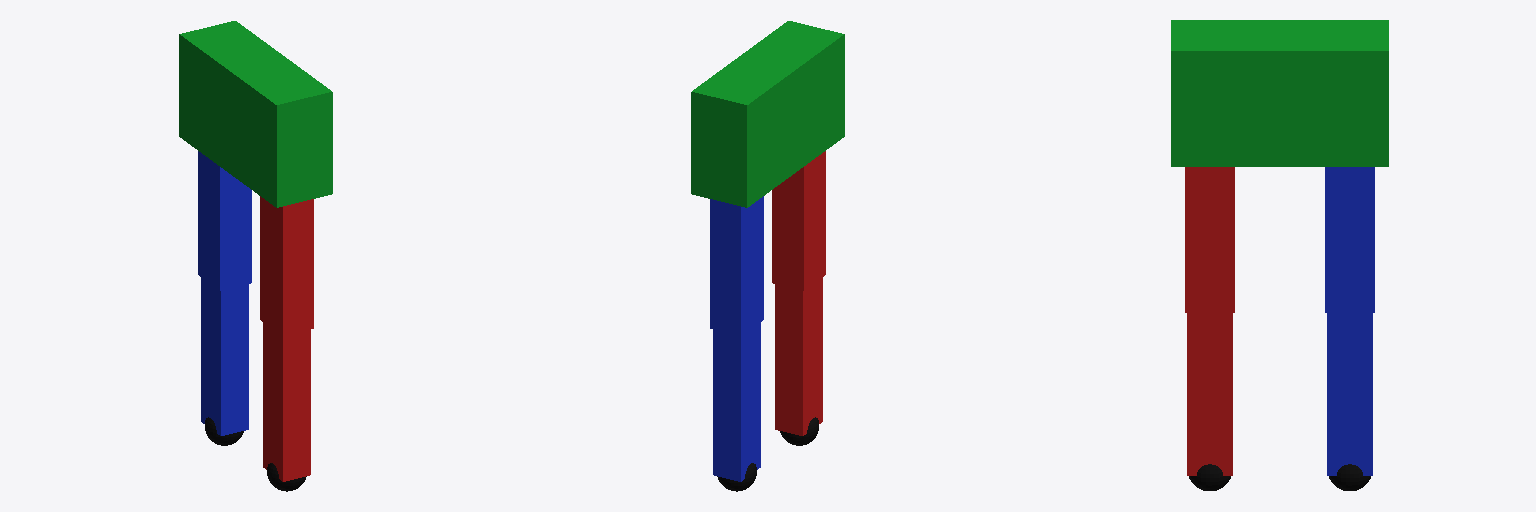
robot.urdf — rabbit_PF:
<?xml version="1.0" encoding="utf-8"?>
<robot name="rabbit_PF">

  <!-- ============================================================
       Materials
       ============================================================ -->
  <material name="torso_green">
    <color rgba="0.10 0.65 0.20 1.0"/>
  </material>
  <material name="left_red">
    <color rgba="0.80 0.15 0.15 1.0"/>
  </material>
  <material name="right_blue">
    <color rgba="0.15 0.25 0.85 1.0"/>
  </material>
  <material name="contact_dark">
    <color rgba="0.10 0.10 0.10 1.0"/>
  </material>


  <!-- ============================================================
       TORSO / HIP
       Inertial properties copied from the MuJoCo XML.
       Visual/collision geometry intentionally kept as a box.
       ============================================================ -->
  <link name="Torso">
    <inertial>
      <origin xyz="0 0 0" rpy="0 0 0"/>
      <mass value="0.33612"/>
      <inertia
        ixx="0.00064442"
        ixy="-0.000000030404"
        ixz="0.00000010394"
        iyy="0.00032793"
        iyz="0.0000000030385"
        izz="0.00061433"/>
    </inertial>

    <visual>
      <origin xyz="0 0 0.015" rpy="0 0 0"/>
      <geometry>
        <box size="0.080 0.240 0.140"/>
      </geometry>
      <material name="torso_green"/>
    </visual>

    <collision>
      <origin xyz="0 0 0.015" rpy="0 0 0"/>
      <geometry>
        <box size="0.080 0.240 0.140"/>
      </geometry>
    </collision>
  </link>


  <!-- ============================================================
       LEFT THIGH
       ============================================================ -->
  <link name="LeftThigh">
    <inertial>
      <origin xyz="-0.00025471 -0.018118 -0.15804" rpy="0 0 0"/>
      <mass value="0.1568"/>
      <inertia
        ixx="0.00013318"
        ixy="-0.000000019256"
        ixz="-0.00000019188"
        iyy="0.00017067"
        iyz="-0.000005934"
        izz="0.000060104"/>
    </inertial>

    <!-- Box representation retained intentionally. -->
    <visual>
      <origin xyz="0 0 -0.094" rpy="0 0 0"/>
      <geometry>
        <box size="0.045 0.055 0.188"/>
      </geometry>
      <material name="left_red"/>
    </visual>

    <collision>
      <origin xyz="0 0 -0.094" rpy="0 0 0"/>
      <geometry>
        <box size="0.045 0.055 0.188"/>
      </geometry>
    </collision>
  </link>


  <!-- ============================================================
       LEFT SHIN
       ============================================================ -->
  <link name="LeftShin">
    <inertial>
      <origin xyz="0.00000012553 0.017802 -0.12331" rpy="0 0 0"/>
      <mass value="0.071976"/>
      <inertia
        ixx="0.000080507"
        ixy="-0.000000000013374"
        ixz="-0.00000000013431"
        iyy="0.000085223"
        iyz="0.0000025123"
        izz="0.000016981"/>
    </inertial>

    <!-- Box representation retained intentionally. -->
    <visual>
      <origin xyz="0 0 -0.100" rpy="0 0 0"/>
      <geometry>
        <box size="0.040 0.050 0.200"/>
      </geometry>
      <material name="left_red"/>
    </visual>

    <collision>
      <origin xyz="0 0 -0.100" rpy="0 0 0"/>
      <geometry>
        <box size="0.040 0.050 0.200"/>
      </geometry>
    </collision>
  </link>

  <link name="LeftContact">
    <visual>
      <origin xyz="0 0 0" rpy="0 0 0"/>
      <geometry>
        <sphere radius="0.025"/>
      </geometry>
      <material name="contact_dark"/>
    </visual>

    <collision>
      <origin xyz="0 0 0.020" rpy="0 0 0"/>
      <geometry>
        <sphere radius="0.020"/>
      </geometry>
    </collision>
  </link>


  <!-- ============================================================
       RIGHT THIGH
       ============================================================ -->
  <link name="RightThigh">
    <inertial>
      <origin xyz="-0.00025471 -0.018118 -0.15804" rpy="0 0 0"/>
      <mass value="0.1568"/>
      <inertia
        ixx="0.00013318"
        ixy="-0.000000012548"
        ixz="0.00000019243"
        iyy="0.00017095"
        iyz="0.0000020631"
        izz="0.000059825"/>
    </inertial>

    <!-- Box representation retained intentionally. -->
    <visual>
      <origin xyz="0 0 -0.094" rpy="0 0 0"/>
      <geometry>
        <box size="0.045 0.055 0.188"/>
      </geometry>
      <material name="right_blue"/>
    </visual>

    <collision>
      <origin xyz="0 0 -0.094" rpy="0 0 0"/>
      <geometry>
        <box size="0.045 0.055 0.188"/>
      </geometry>
    </collision>
  </link>


  <!-- ============================================================
       RIGHT SHIN
       ============================================================ -->
  <link name="RightShin">
    <inertial>
      <origin xyz="-0.00000012553 -0.017802 -0.12331" rpy="0 0 0"/>
      <mass value="0.071976"/>
      <inertia
        ixx="0.000080507"
        ixy="-0.000000000013374"
        ixz="0.00000000013431"
        iyy="0.000085223"
        iyz="-0.0000025123"
        izz="0.000016981"/>
    </inertial>

    <!-- Box representation retained intentionally. -->
    <visual>
      <origin xyz="0 0 -0.100" rpy="0 0 0"/>
      <geometry>
        <box size="0.040 0.050 0.200"/>
      </geometry>
      <material name="right_blue"/>
    </visual>

    <collision>
      <origin xyz="0 0 -0.100" rpy="0 0 0"/>
      <geometry>
        <box size="0.040 0.050 0.200"/>
      </geometry>
    </collision>
  </link>

  <link name="RightContact">
    <visual>
      <origin xyz="0 0 0" rpy="0 0 0"/>
      <geometry>
        <sphere radius="0.025"/>
      </geometry>
      <material name="contact_dark"/>
    </visual>

    <collision>
      <origin xyz="0 0 0.020" rpy="0 0 0"/>
      <geometry>
        <sphere radius="0.020"/>
      </geometry>
    </collision>
  </link>


  <!-- ============================================================
       JOINTS

       IMPORTANT:
       The source MuJoCo file has:
         <compiler angle="degree"/>

       Therefore:
         0.034907 degrees  =  0.000609242082 rad
        -0.069813 degrees  = -0.001218466711 rad

       Those literal XML semantics are used below.
       ============================================================ -->

  <joint name="LeftHip" type="revolute">
    <origin xyz="0 -0.077 -0.0525" rpy="0 0 0"/>
    <axis xyz="0 -0.999390827019096 0.034899496702501"/>
    <parent link="Torso"/>
    <child link="LeftThigh"/>
    <limit effort="12" lower="-1.570796326795" upper="1.570796326795" velocity="8"/>
  </joint>

  <joint name="LeftKnee" type="revolute">
    <origin xyz="0 0 -0.188" rpy="0 0 0"/>
    <axis xyz="0 -0.999390827019096 -0.034899496702501"/>
    <parent link="LeftThigh"/>
    <child link="LeftShin"/>
    <limit effort="12" lower="0" upper="2.495820830352" velocity="8"/>
  </joint>

  <!--
       Keep this fixed contact link: downstream code can query
       LeftContact as the left foot contact-point frame.
  -->
  <joint name="LeftContactFixed" type="fixed">
    <parent link="LeftShin"/>
    <child link="LeftContact"/>
    <origin xyz="0 0 -0.20" rpy="0 0 0"/>
  </joint>


  <joint name="RightHip" type="revolute">
    <origin xyz="0 0.077 -0.0525" rpy="0 0 0"/>
    <axis xyz="0 -1 0"/>
    <parent link="Torso"/>
    <child link="RightThigh"/>
    <limit effort="12" lower="-1.570796326795" upper="1.570796326795" velocity="8"/>
  </joint>

  <joint name="RightKnee" type="revolute">
    <origin xyz="0 0 -0.188" rpy="0 0 0"/>
    <axis xyz="0 -0.999390827019096 0.034899496702501"/>
    <parent link="RightThigh"/>
    <child link="RightShin"/>
    <limit effort="12" lower="0" upper="2.495820830352" velocity="8"/>
  </joint>

  <!--
       Keep this fixed contact link: downstream code can query
       RightContact as the right foot contact-point frame.
  -->
  <joint name="RightContactFixed" type="fixed">
    <parent link="RightShin"/>
    <child link="RightContact"/>
    <origin xyz="0 0 -0.20" rpy="0 0 0"/>
  </joint>


  <!-- ============================================================
       TRANSMISSIONS

       Retained from the original URDF. The MuJoCo XML does not provide
       equivalent mechanicalReduction or motorInertia parameters.
       ============================================================ -->

  <transmission name="LeftHipTransmission" type="pr2_mechanism_model/SimpleTransmission">
    <joint name="LeftHip"/>
    <actuator>
      <mechanicalReduction>7.75</mechanicalReduction>
      <motorInertia>0.000332</motorInertia>
    </actuator>
  </transmission>

  <transmission name="LeftKneeTransmission" type="pr2_mechanism_model/SimpleTransmission">
    <joint name="LeftKnee"/>
    <actuator>
      <mechanicalReduction>7.75</mechanicalReduction>
      <motorInertia>0.000332</motorInertia>
    </actuator>
  </transmission>

  <transmission name="RightHipTransmission" type="pr2_mechanism_model/SimpleTransmission">
    <joint name="RightHip"/>
    <actuator>
      <mechanicalReduction>7.75</mechanicalReduction>
      <motorInertia>0.000332</motorInertia>
    </actuator>
  </transmission>

  <transmission name="RightKneeTransmission" type="pr2_mechanism_model/SimpleTransmission">
    <joint name="RightKnee"/>
    <actuator>
      <mechanicalReduction>7.75</mechanicalReduction>
      <motorInertia>0.000332</motorInertia>
    </actuator>
  </transmission>

</robot>

--- What the picture shows (computed from the rendered views, not written in the file) ---
The picture shows the robot from 3 angles, left to right: view 1: azimuth 30°, elevation 25°; view 2: azimuth 150°, elevation 25°; view 3: azimuth 270°, elevation 25°; orthographic projection.
Model rabbit_PF with 7 links and 6 joints (4 revolute, 2 fixed), rooted at Torso, posed every joint at zero.
Visible links, largest first — view 1: Torso, LeftThigh, RightShin, LeftShin, RightThigh; view 2: Torso, RightThigh, LeftShin, RightShin, LeftThigh; view 3: Torso, LeftThigh, RightThigh, LeftShin, RightShin, LeftContact, RightContact.
Link boxes in pixels (x1,y1,x2,y2): Torso: (179, 21, 332, 207); LeftThigh: (260, 196, 313, 336); RightShin: (201, 277, 248, 435); LeftShin: (263, 323, 310, 481); RightThigh: (198, 151, 251, 290); Torso: (691, 21, 844, 207); RightThigh: (710, 196, 763, 336); LeftShin: (775, 277, 822, 435); RightShin: (713, 323, 760, 481); LeftThigh: (772, 151, 825, 290); Torso: (1171, 20, 1388, 166); LeftThigh: (1185, 167, 1234, 312); RightThigh: (1325, 167, 1374, 312); LeftShin: (1187, 313, 1232, 475); RightShin: (1327, 313, 1372, 475); LeftContact: (1189, 464, 1230, 490); RightContact: (1329, 464, 1370, 490).
Size in the robot's own frame: 0.08 by 0.24 by 0.5505 metres.
Geometry: primitives only (box / cylinder / sphere), no mesh files.
